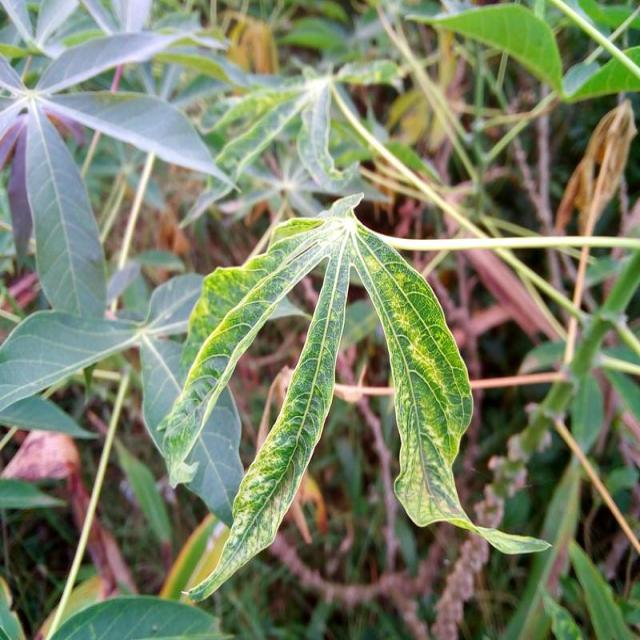cassava leaf: (160, 191, 553, 602), (182, 217, 354, 602)
